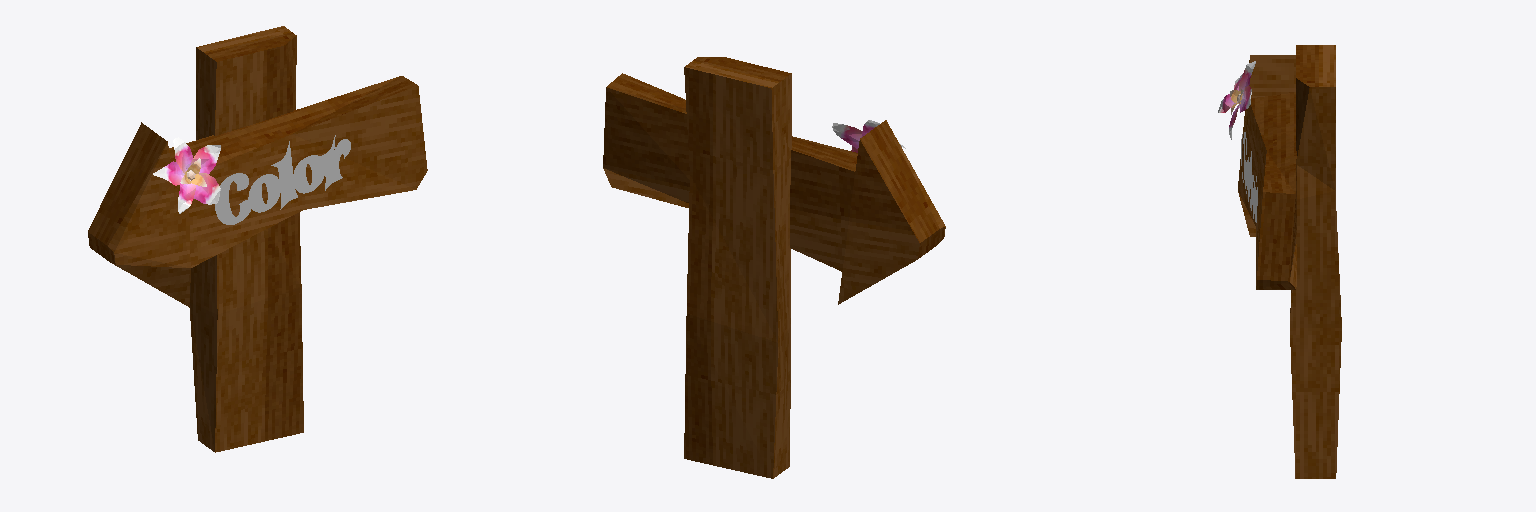
3 views of the same model, side by side, from view 1: azimuth 30°, elevation 25°; view 2: azimuth 150°, elevation 25°; view 3: azimuth 270°, elevation 25° (orthographic).
Parts seen in each view (by area): view 1: Cube.001, Cube, Plane.001, Text, Text.001; view 2: Cube, Cube.001, Plane.001; view 3: Cube, Cube.001, Plane.001.
Boxes of the visible parts, box(x1,y1,x2,y2) form: Cube.001: box(88, 76, 427, 307); Cube: box(190, 26, 303, 452); Plane.001: box(153, 137, 220, 213); Text: box(219, 143, 349, 222); Text.001: box(215, 135, 350, 224); Cube: box(684, 57, 791, 478); Cube.001: box(603, 73, 945, 304); Plane.001: box(832, 120, 905, 152); Cube: box(1290, 45, 1341, 478); Cube.001: box(1238, 55, 1296, 289); Plane.001: box(1218, 61, 1255, 139).
Bounding box in the file's own units: 1.58 × 1.84 × 0.5286.
Materials: 5 (4 with a texture image).